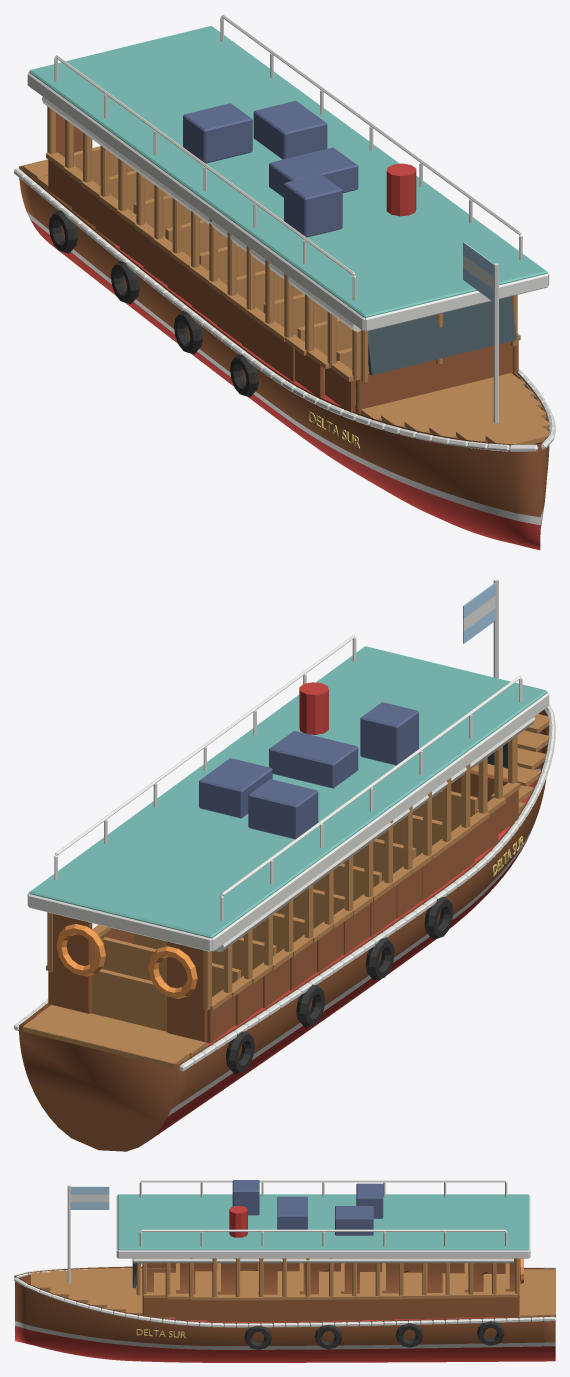
Rendered from lancha-delta.glb.
3 views of the same model, one above another, from view 1: azimuth 30°, elevation 25°; view 2: azimuth 150°, elevation 25°; view 3: azimuth 270°, elevation 25° (orthographic). The views are drawn at different scales.
Parts seen in each view (by area): view 1: techo_verde, caoba, caoba_clara, blanco, equipaje, antiincrustante, vidrio, goma, lona, celeste; view 2: techo_verde, caoba, caoba_clara, blanco, equipaje, antiincrustante, goma, salvavidas, lona, celeste; view 3: caoba, techo_verde, caoba_clara, blanco, antiincrustante, equipaje, lona, goma, celeste.
Part boxes in pixels (left/top/right/bottom): techo_verde: left=29, top=26, right=547, bottom=318; caoba: left=19, top=113, right=549, bottom=517; caoba_clara: left=22, top=106, right=549, bottom=451; blanco: left=14, top=14, right=555, bottom=525; equipaje: left=183, top=100, right=358, bottom=237; antiincrustante: left=30, top=163, right=542, bottom=550; vidrio: left=368, top=296, right=516, bottom=375; goma: left=48, top=210, right=258, bottom=396; lona: left=41, top=97, right=360, bottom=331; celeste: left=463, top=242, right=493, bottom=301; techo_verde: left=29, top=646, right=547, bottom=938; caoba: left=19, top=707, right=549, bottom=1151; caoba_clara: left=22, top=714, right=549, bottom=1068; blanco: left=14, top=579, right=555, bottom=1116; equipaje: left=199, top=702, right=418, bottom=839; antiincrustante: left=149, top=682, right=537, bottom=1140; goma: left=132, top=896, right=453, bottom=1073; salvavidas: left=56, top=924, right=197, bottom=998; lona: left=215, top=717, right=534, bottom=952; celeste: left=463, top=582, right=495, bottom=643; caoba: left=15, top=1258, right=555, bottom=1345; techo_verde: left=117, top=1194, right=529, bottom=1250; caoba_clara: left=31, top=1258, right=555, bottom=1318; blanco: left=14, top=1180, right=555, bottom=1349; antiincrustante: left=15, top=1206, right=555, bottom=1362; equipaje: left=232, top=1180, right=383, bottom=1235; lona: left=133, top=1258, right=513, bottom=1263; goma: left=244, top=1270, right=504, bottom=1349; celeste: left=70, top=1186, right=109, bottom=1209.
Bounding box in the file's own units: 1.87 × 2.44 × 7.02.
